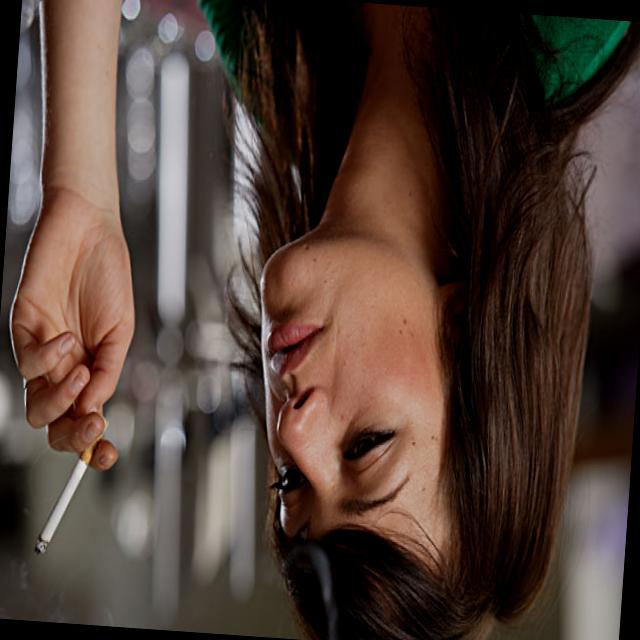smoke: (30, 450, 91, 560)
